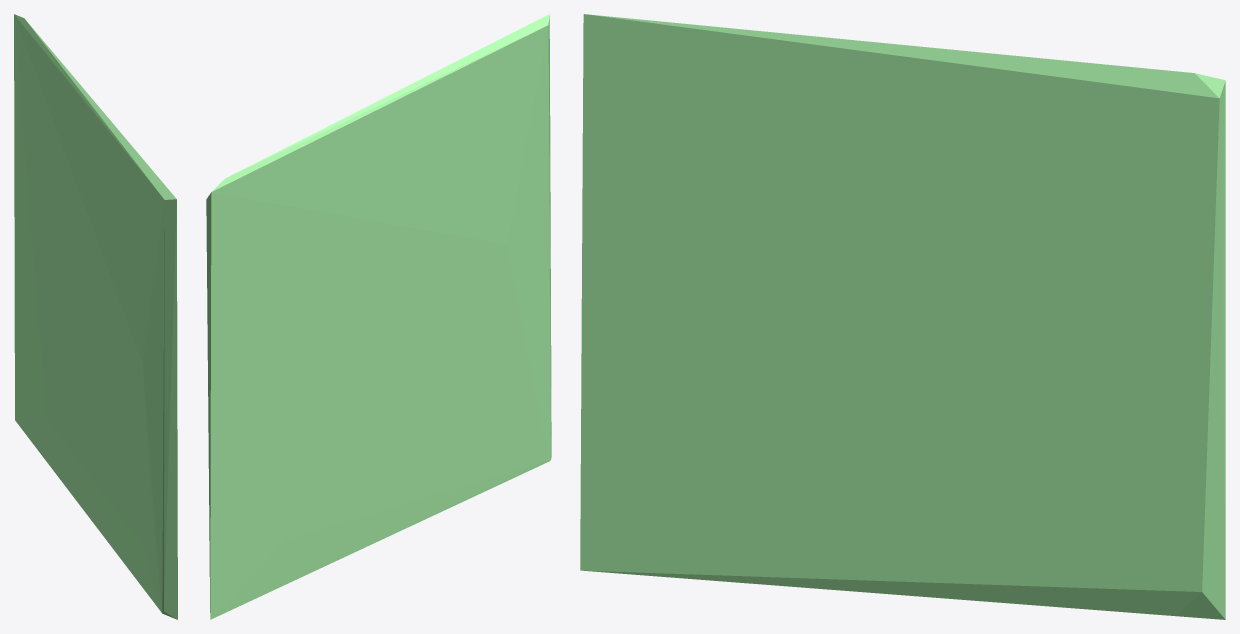
Rendered from spatula_robot_base_coll_12.dae.
3 renders of one model, left to right at view 1: azimuth 30°, elevation 25°; view 2: azimuth 150°, elevation 25°; view 3: azimuth 270°, elevation 25°, orthographic. The views are drawn at different scales.
Visible parts, largest first — view 1: Node_0x7fe6917b6bb0; view 2: Node_0x7fe6917b6bb0; view 3: Node_0x7fe6917b6bb0.
Boxes of the visible parts, x1,y1,x2,y2 form: Node_0x7fe6917b6bb0: (14,14,177,619); Node_0x7fe6917b6bb0: (206,14,551,619); Node_0x7fe6917b6bb0: (580,14,1225,619).
Bounding box in the file's own units: 0.0279 × 0.1193 × 0.1254.
